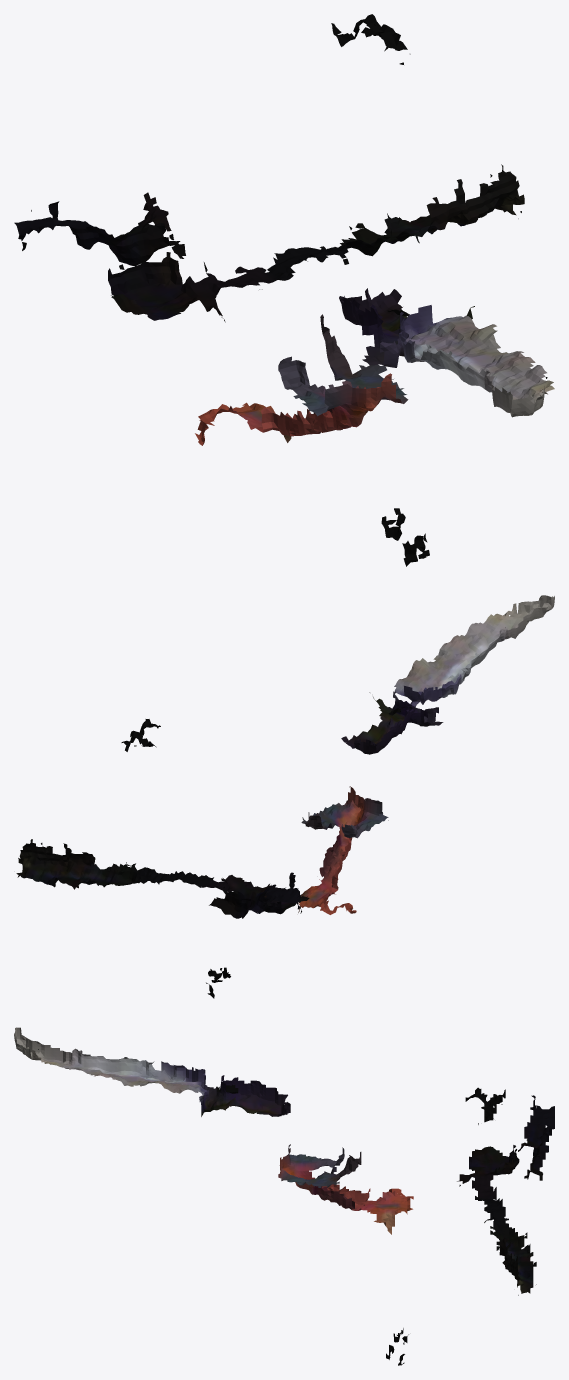
The model's file is knife.obj.
3 views of the same model, one above another, from view 1: azimuth 30°, elevation 25°; view 2: azimuth 150°, elevation 25°; view 3: azimuth 270°, elevation 25° (orthographic). The views are drawn at different scales.
Bounding box in the file's own units: 9.74 × 9.41 × 16.17.
1 material, 1 textured.
